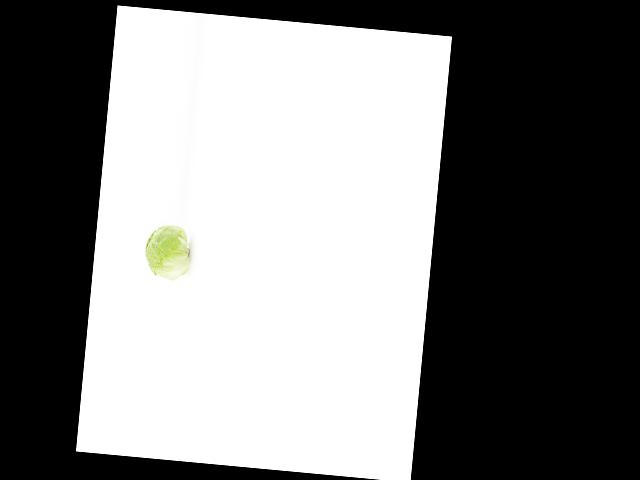lettuce: (141, 216, 191, 281)
